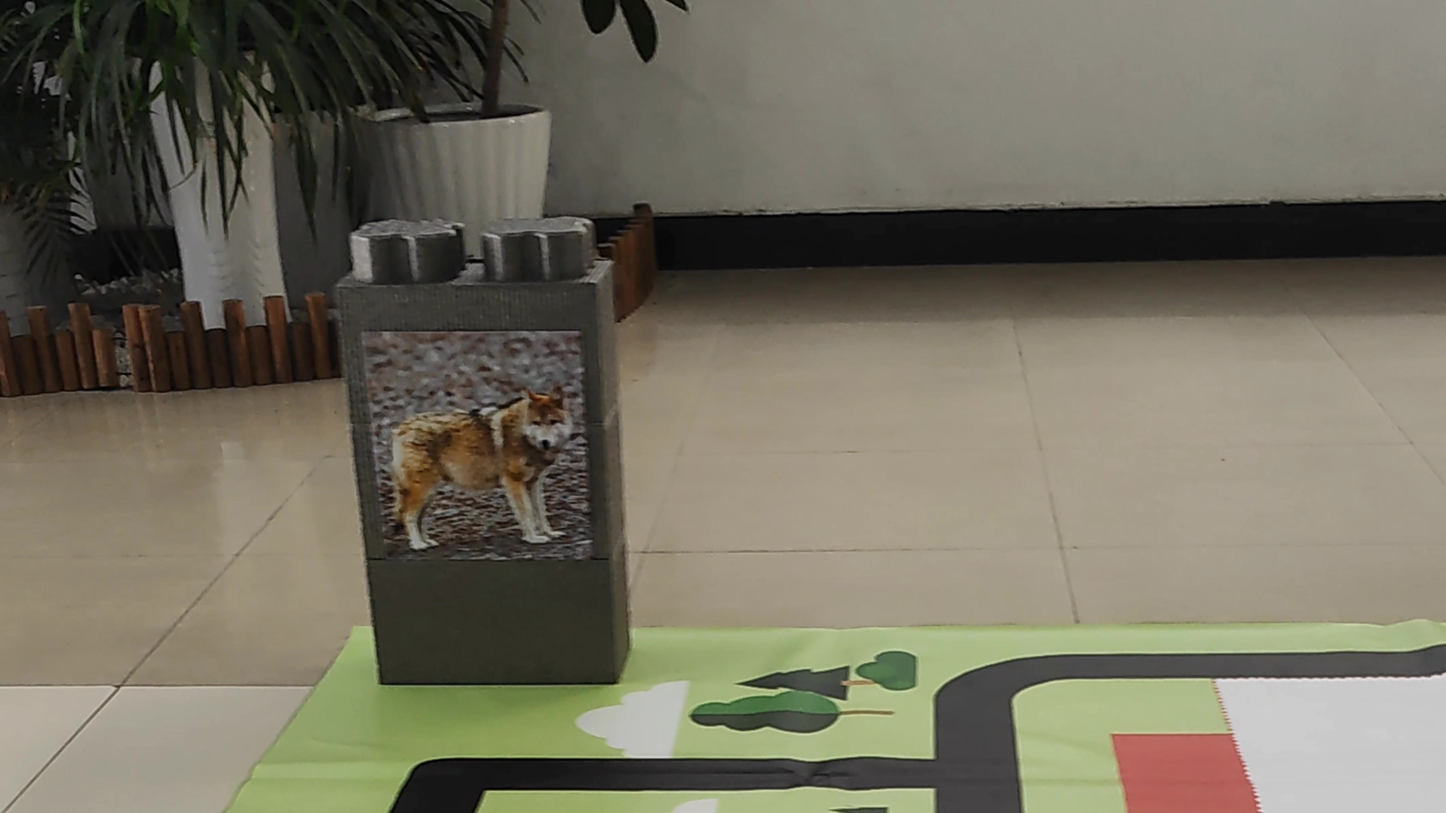wolf: (386, 364, 578, 560)
